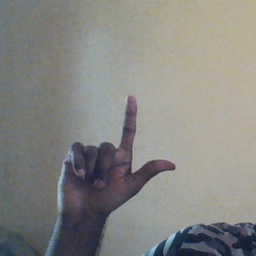L: (49, 93, 179, 216)
